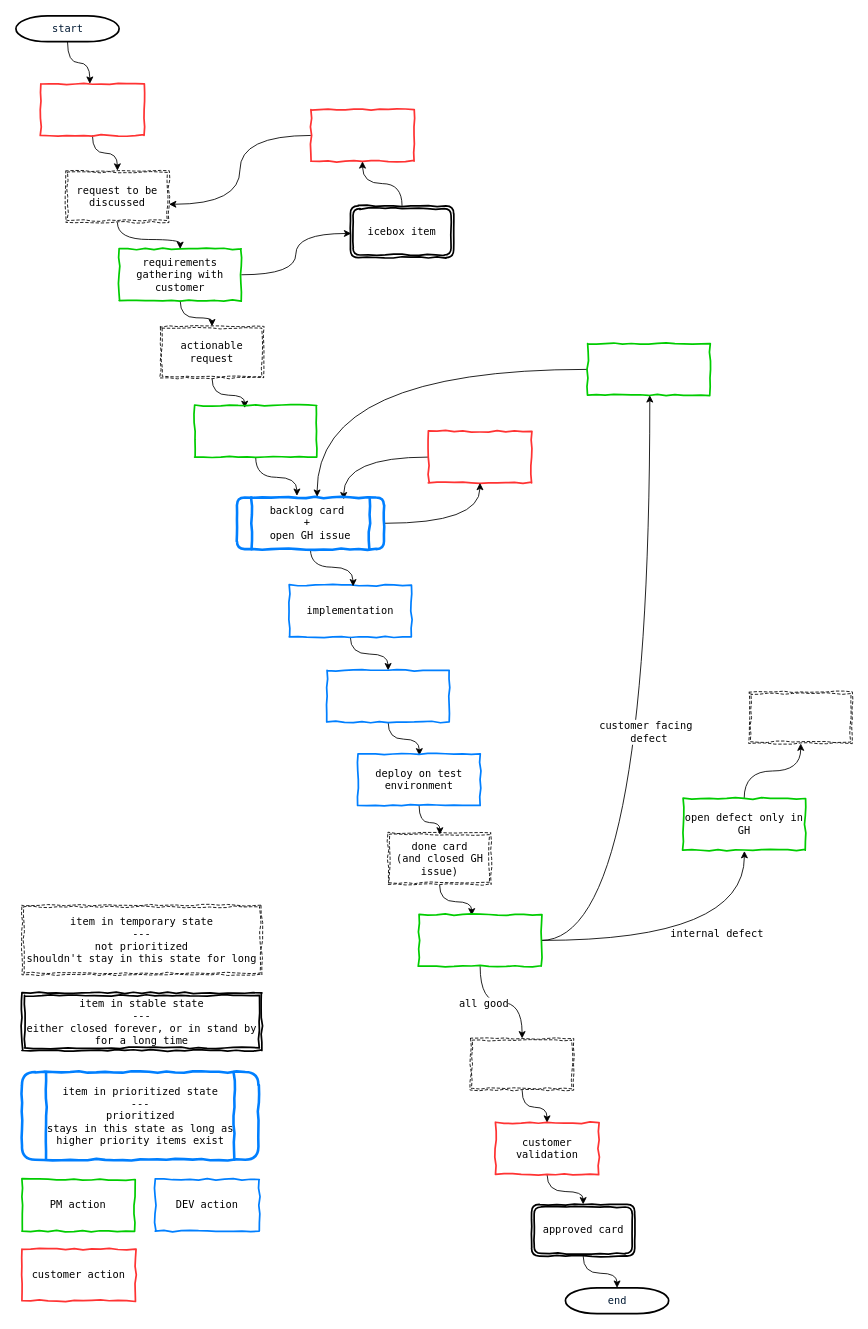
Image size: 868x1329. Some labels were removed from this diagram. The shapes that lost their labels are listed below. From the top down, each one's centre as x and y in pixels, then its label:
At point 92,109: "send new request to buildo".
At point 362,135: "recover request from icebox".
At point 648,369: "open defect and track in backlog".
At point 255,431: "prepare for dev".
At point 479,456: "prioritize".
At point 388,695: "testing".
At point 800,717: "internal defect in GH".
At point 480,940: "Q.A.".
At point 522,1064: "card to be validated by customer".
